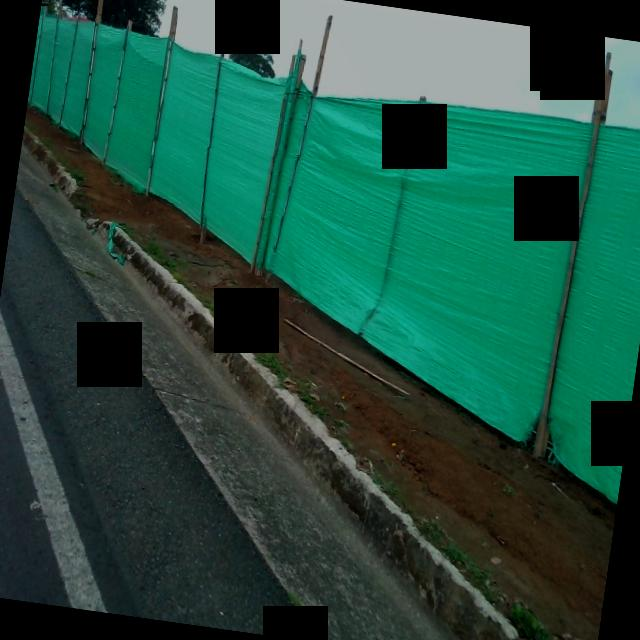DITCH: (0, 40, 640, 640), (0, 122, 640, 640)
